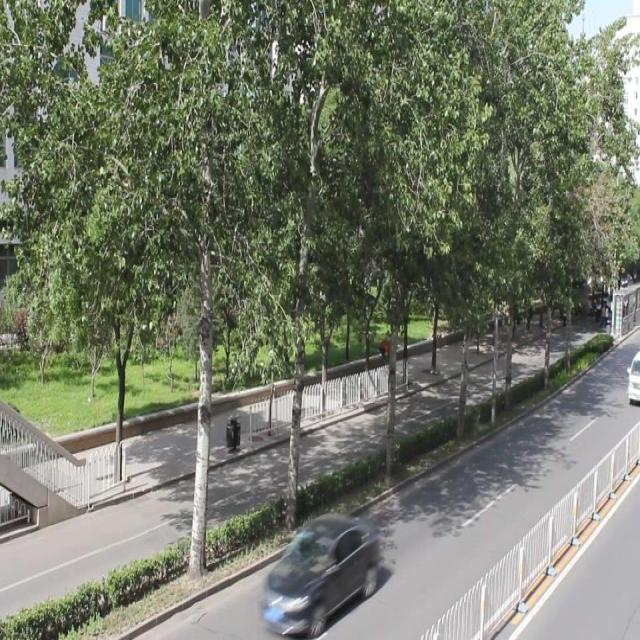car: (260, 512, 376, 626)
